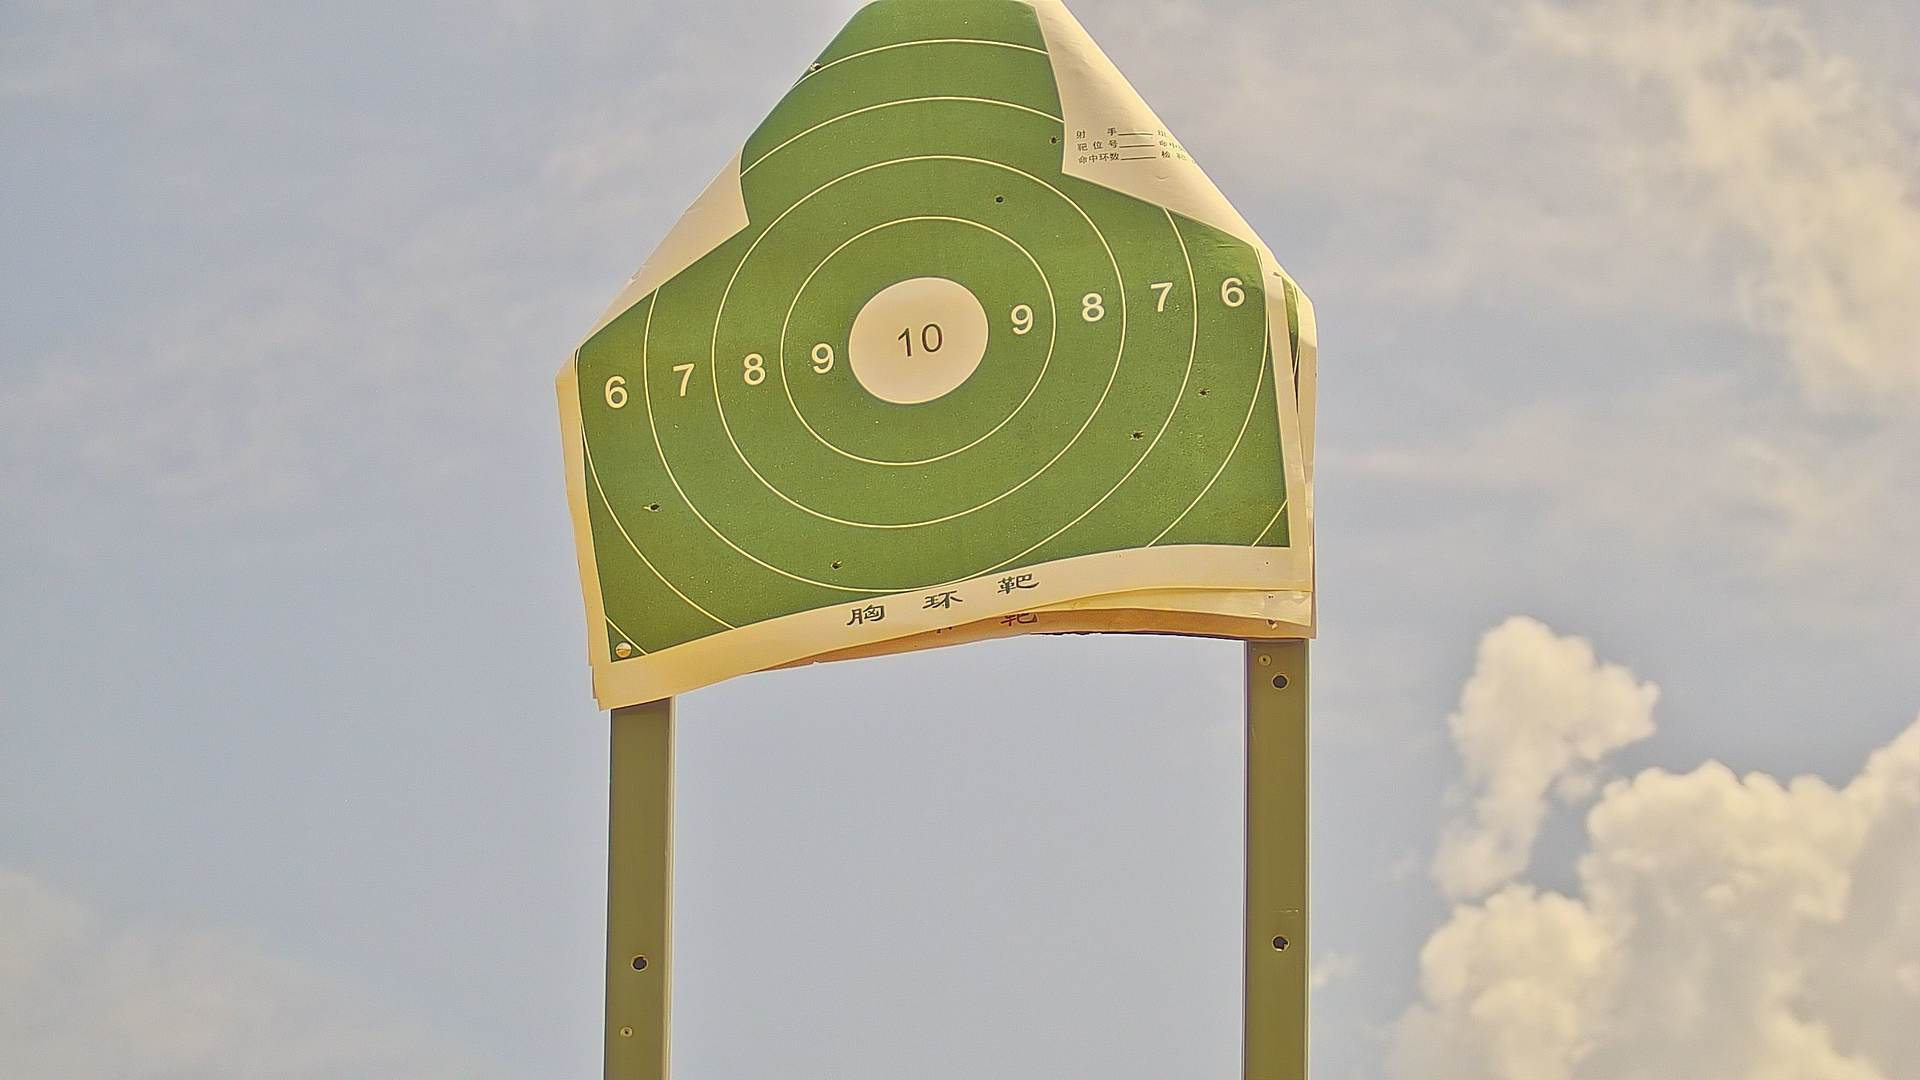hole: (1044, 131, 1062, 145), (1127, 429, 1147, 440), (828, 558, 845, 571), (1197, 382, 1211, 397), (990, 193, 1006, 204), (644, 502, 659, 514), (808, 61, 824, 73)
kernel: (915, 338, 923, 342)
target: (568, 5, 1298, 665)
ten: (844, 273, 990, 407)
